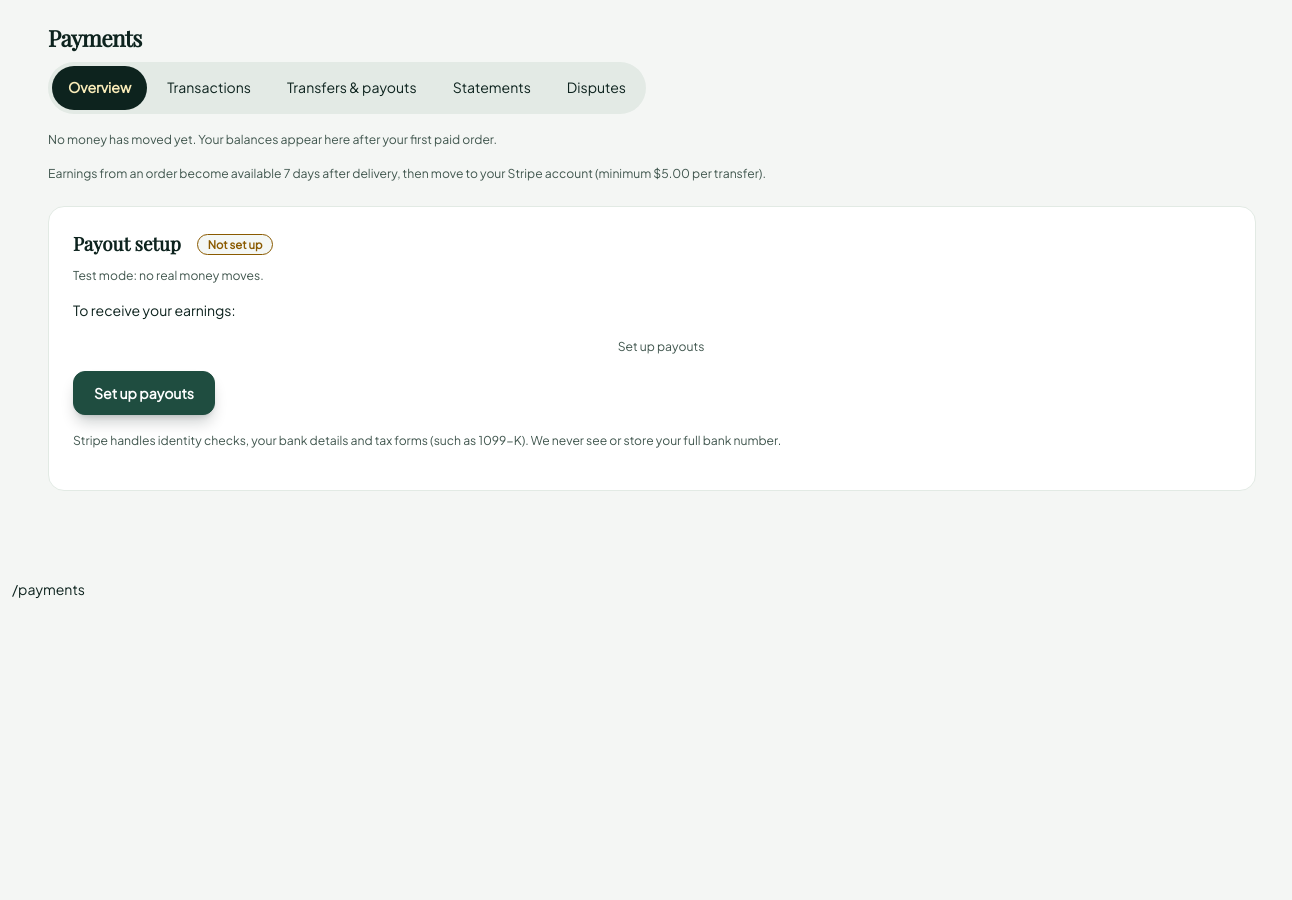
Test: Payments formatting › refuses to follow an address that is not Stripe
What coordinates should you click on to do the following:
click the button "Set up payouts"
I would click on:
 (144, 393)
Its box is [73,371,215,415].
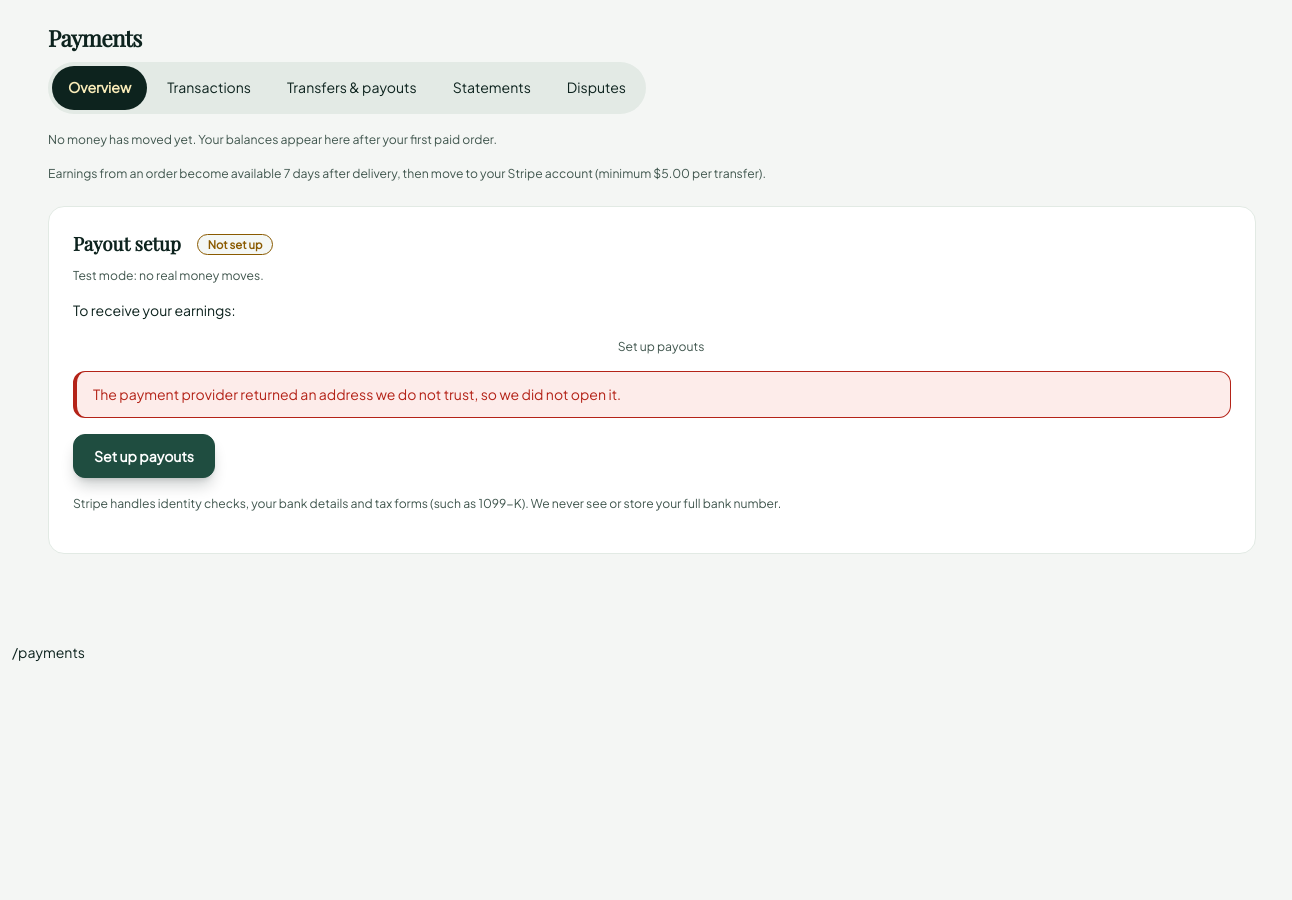
Now the text "address we do not trust" is shown, box [93,385,621,403]
